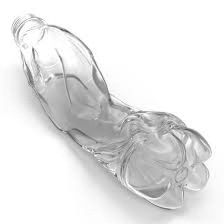bottle: (6, 4, 216, 215)
